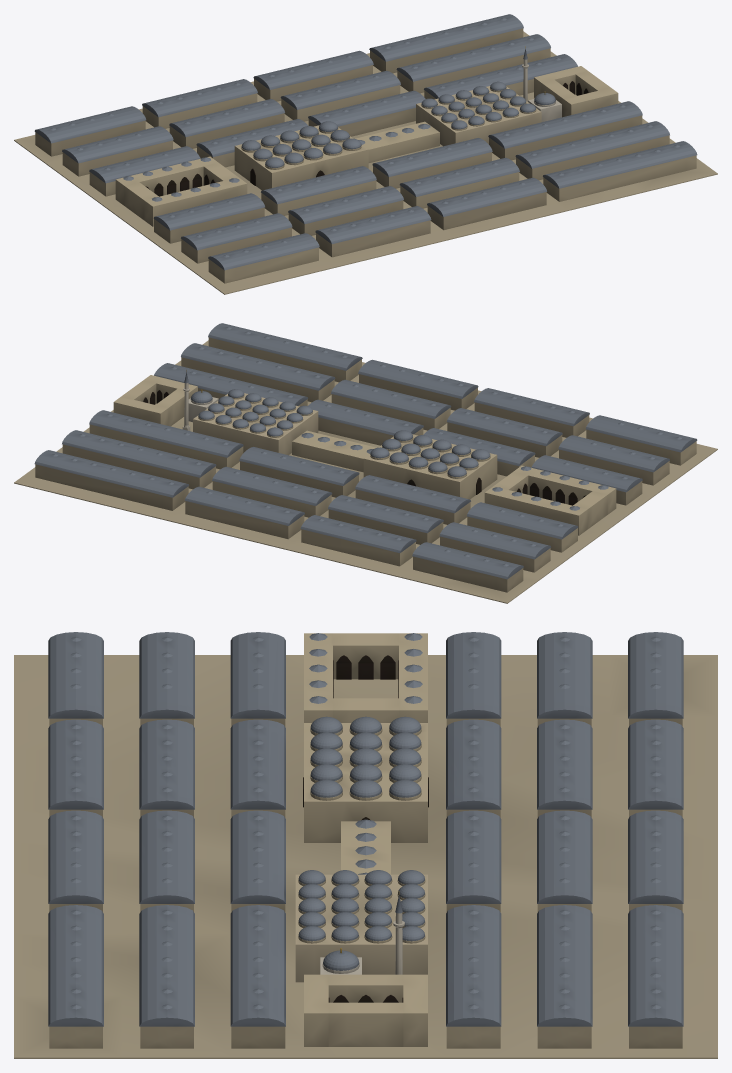
Rendered from grand-bazaar.glb.
3 renders of one model, top to bottom at view 1: azimuth 30°, elevation 25°; view 2: azimuth 150°, elevation 25°; view 3: azimuth 270°, elevation 25°, orthographic. The views are drawn at different scales.
Visible parts, largest first — view 1: p0_shops, p1_bedestens, p2_hans; view 2: p0_shops, p1_bedestens, p2_hans; view 3: p0_shops, p1_bedestens, p2_hans.
Part boxes in pixels (<box>): p0_shops: <box>14,14,717,294</box>; p1_bedestens: <box>234,81,541,190</box>; p2_hans: <box>115,46,618,226</box>; p0_shops: <box>14,323,717,603</box>; p1_bedestens: <box>193,389,497,499</box>; p2_hans: <box>113,370,616,535</box>; p0_shops: <box>14,632,717,1058</box>; p1_bedestens: <box>295,716,428,982</box>; p2_hans: <box>304,633,427,1046</box>.
Bounding box in the file's own units: 230 × 27.98 × 170.
